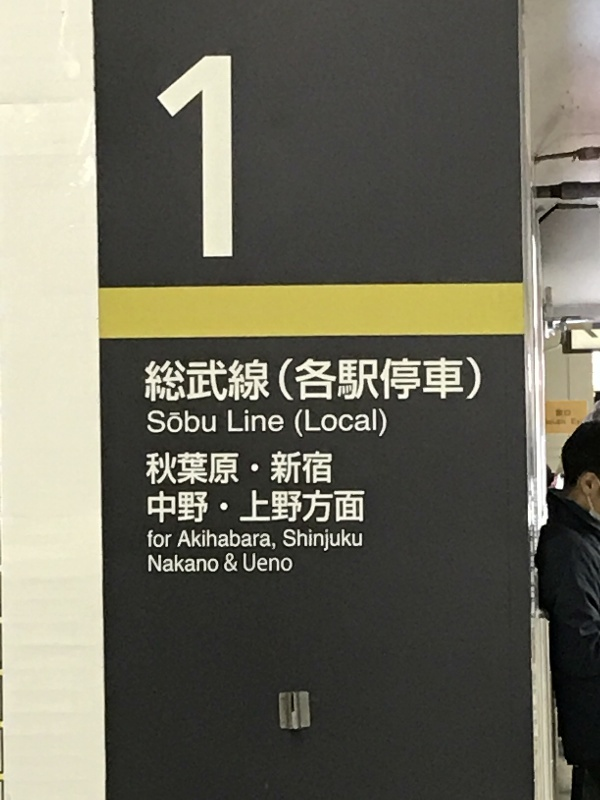text: (161, 55, 176, 259), (177, 55, 192, 259), (193, 55, 208, 259), (209, 55, 224, 259), (225, 55, 234, 259), (156, 55, 160, 259), (145, 356, 160, 405), (161, 356, 176, 405), (177, 356, 192, 405), (193, 356, 208, 405), (209, 356, 224, 405), (225, 356, 240, 405), (241, 356, 256, 405), (257, 356, 272, 405), (273, 356, 288, 405), (289, 356, 304, 405), (305, 356, 320, 405), (321, 356, 336, 405), (337, 356, 352, 405), (353, 356, 368, 405), (369, 356, 384, 405), (385, 356, 400, 405), (401, 356, 416, 405), (417, 356, 432, 405), (433, 356, 448, 405), (449, 356, 464, 405), (465, 356, 480, 405), (161, 451, 176, 487), (177, 451, 192, 487), (193, 451, 208, 487), (209, 451, 224, 487), (225, 451, 240, 487), (241, 451, 256, 487), (257, 451, 272, 487), (273, 451, 288, 487), (289, 451, 304, 487), (305, 451, 320, 487), (161, 490, 176, 525), (177, 490, 192, 525), (193, 490, 208, 525), (209, 490, 224, 525), (225, 490, 240, 525), (241, 490, 256, 525), (257, 490, 272, 525), (273, 490, 288, 525), (289, 490, 304, 525), (305, 490, 320, 525), (321, 490, 336, 525), (337, 490, 352, 525), (146, 451, 160, 487), (353, 490, 366, 525), (305, 408, 320, 438), (321, 408, 336, 438), (337, 408, 352, 438), (353, 408, 368, 438), (369, 408, 384, 438), (321, 451, 333, 487), (148, 490, 160, 525), (161, 410, 176, 435), (177, 410, 192, 435), (193, 410, 208, 435), (177, 529, 192, 554), (193, 529, 208, 554), (209, 529, 224, 554), (225, 529, 240, 554), (241, 529, 256, 554), (257, 529, 272, 554), (273, 529, 288, 554), (289, 529, 304, 554), (305, 529, 320, 554), (321, 529, 336, 554), (337, 529, 352, 554), (241, 409, 256, 433), (257, 409, 272, 433), (147, 410, 160, 435), (294, 408, 304, 438), (257, 553, 272, 573), (273, 553, 288, 573), (561, 408, 576, 428), (228, 409, 240, 433), (161, 555, 176, 573), (177, 555, 192, 573), (193, 555, 208, 573), (273, 409, 284, 433), (225, 553, 238, 573), (547, 408, 560, 428), (353, 529, 363, 554), (147, 529, 160, 548), (244, 553, 256, 573), (161, 529, 173, 548), (148, 555, 160, 573), (209, 410, 217, 435), (209, 555, 220, 573), (577, 408, 583, 428), (385, 408, 388, 438), (289, 553, 293, 573), (481, 356, 482, 405)
